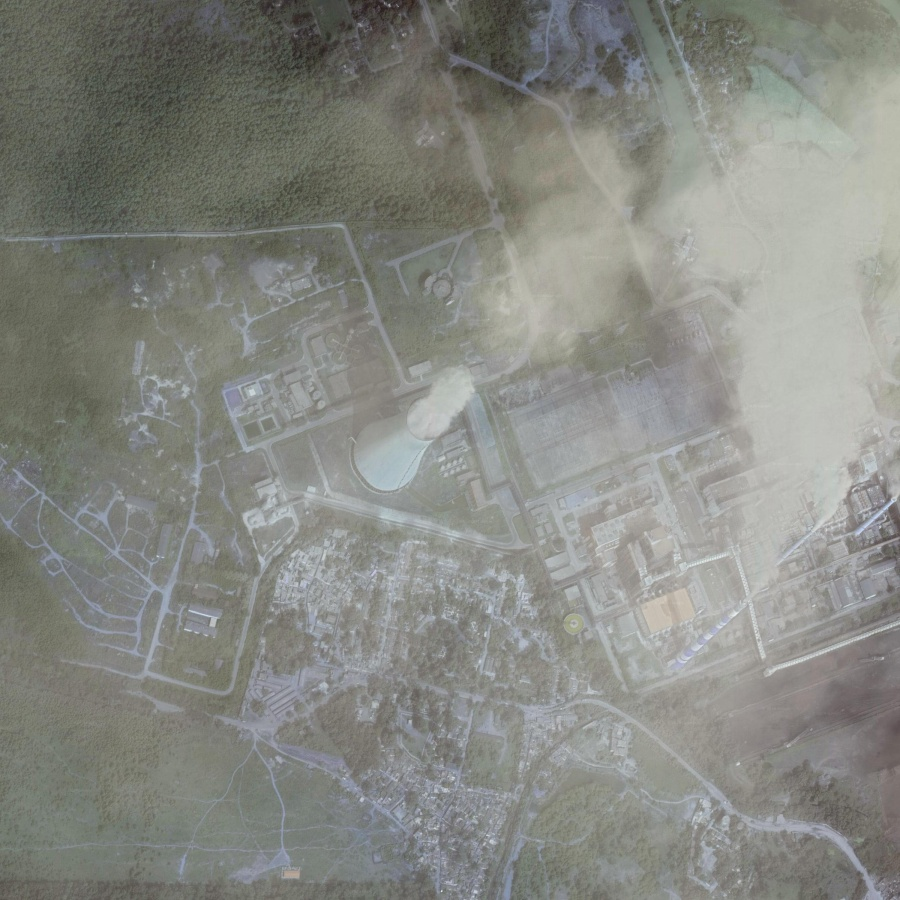PowerPlant: (343, 326, 498, 537)
